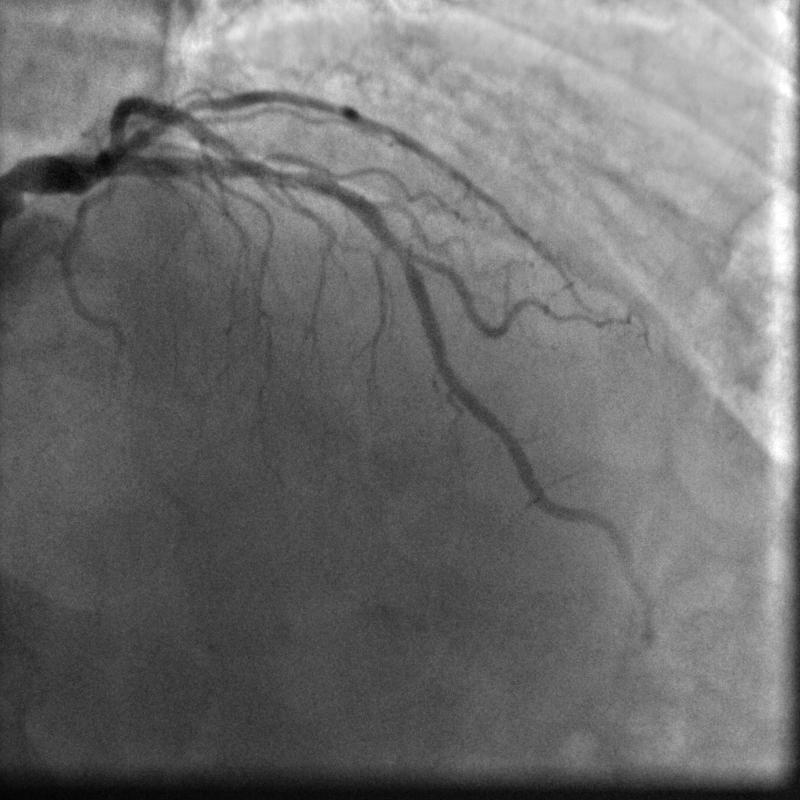Stenosis: (250, 160, 311, 186)
